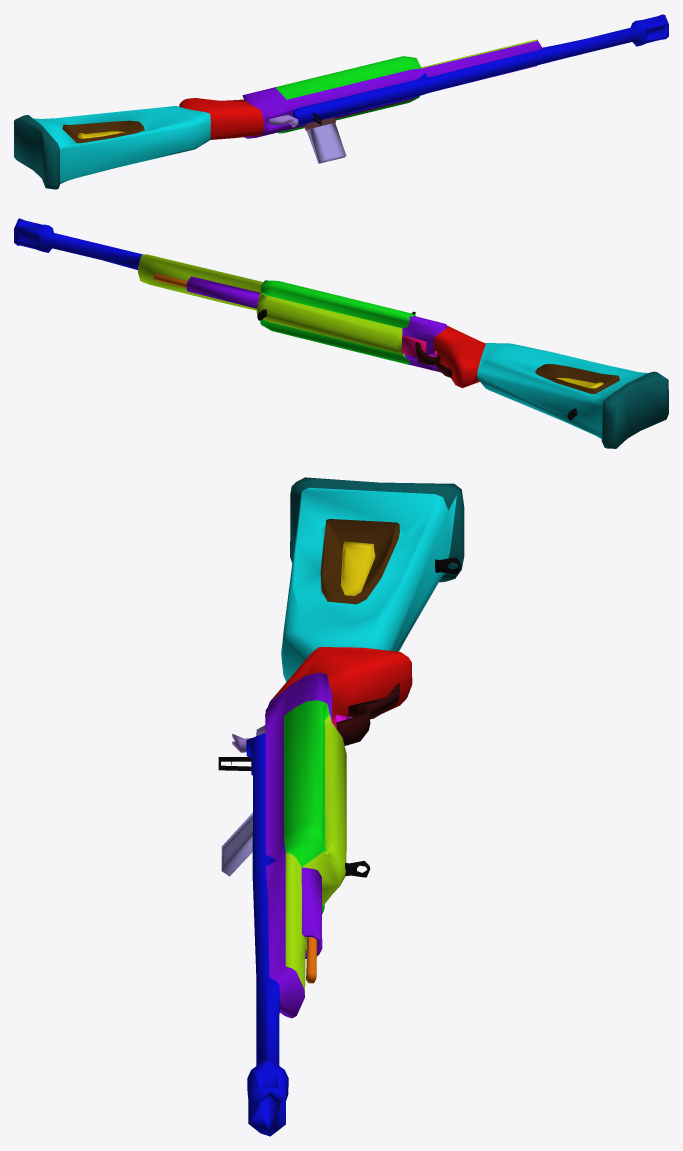
The model's file is Rusty_Repeater_Musket.gltf.
3 views of the same model, one above another, from view 1: azimuth 30°, elevation 25°; view 2: azimuth 150°, elevation 25°; view 3: azimuth 270°, elevation 25° (orthographic). The views are drawn at different scales.
Visible parts, largest first — view 1: Rusty Repeater.001; view 2: Rusty Repeater.001; view 3: Rusty Repeater.001.
Boxes of the visible parts, <box> form: Rusty Repeater.001: <box>14,14,668,189</box>; Rusty Repeater.001: <box>14,218,668,448</box>; Rusty Repeater.001: <box>218,477,464,1136</box>.
Bounding box in the file's own units: 0.5024 × 0.0537 × 0.0875.
